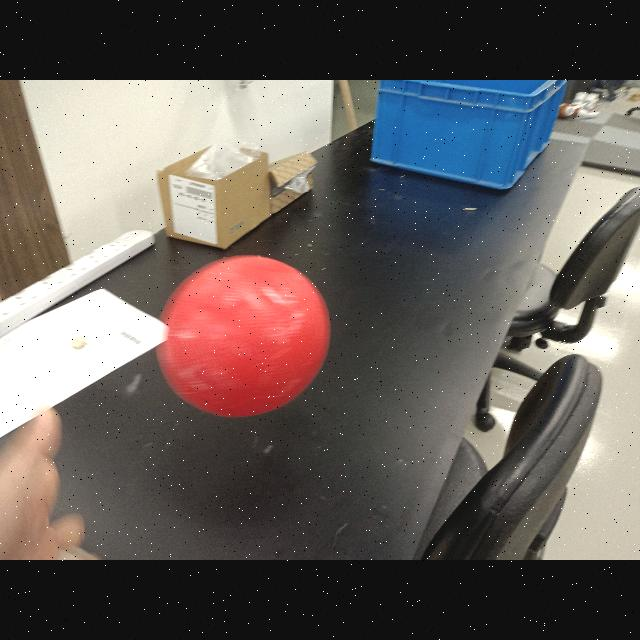R: (158, 250, 332, 422)
